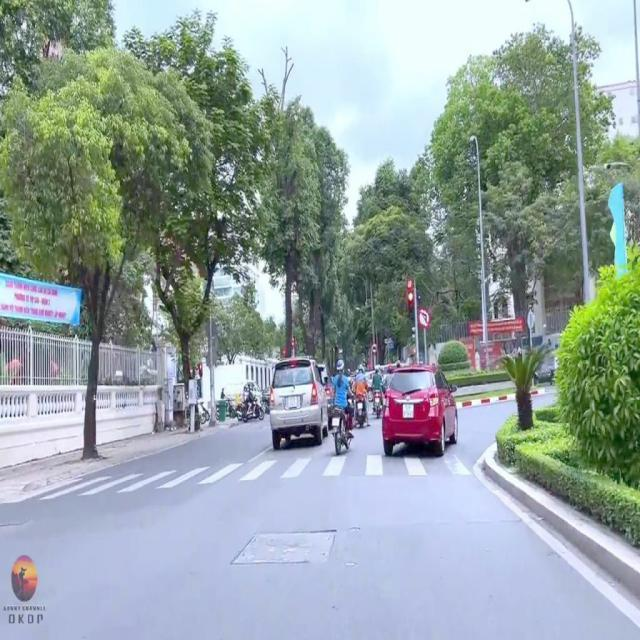106-cam-oto-tai: (372, 343, 377, 354)
123a-cam-re-trai: (419, 307, 430, 328)
